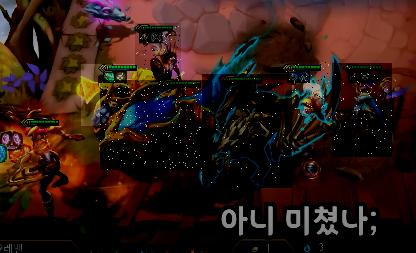3_aoshin: (100, 80, 212, 170)
3_bard: (81, 64, 135, 126)
3_joy: (284, 62, 330, 118)
3_shyvana: (10, 114, 84, 234)
3_soraka: (332, 63, 392, 157)
3_terra: (202, 74, 292, 188)
3_yasuo: (135, 23, 181, 83)
